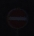No entry: (5, 6, 29, 31)
